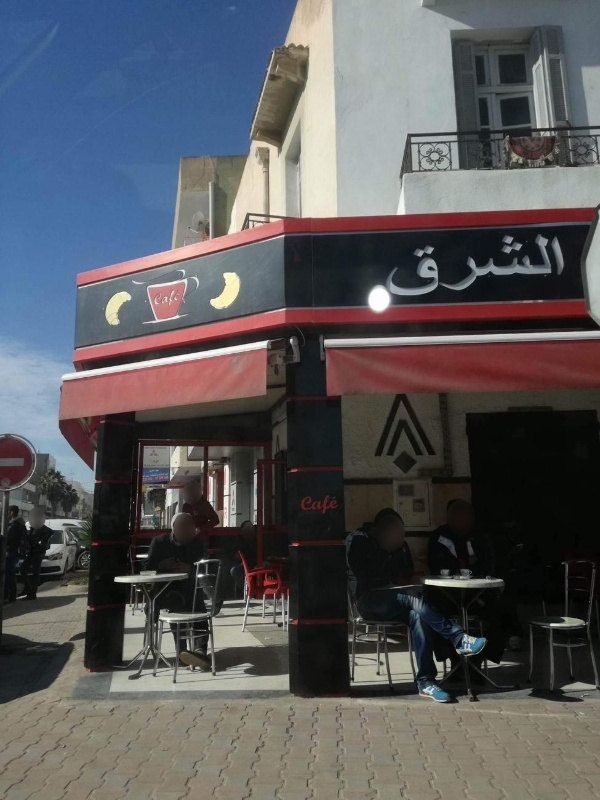text: (385, 232, 400, 301), (401, 232, 416, 301), (417, 232, 432, 301), (433, 232, 448, 301), (449, 232, 464, 301), (465, 232, 480, 301), (481, 232, 496, 301), (497, 232, 512, 301), (513, 232, 528, 301), (529, 232, 544, 301), (545, 232, 560, 301), (561, 232, 567, 301), (161, 285, 176, 308), (305, 495, 320, 516), (321, 495, 336, 516), (381, 232, 384, 301), (145, 469, 160, 482), (153, 285, 160, 308), (161, 469, 170, 482), (177, 285, 181, 308), (301, 495, 304, 516), (145, 464, 160, 468), (161, 464, 170, 468), (153, 460, 160, 464), (337, 495, 338, 516), (143, 469, 144, 482)
